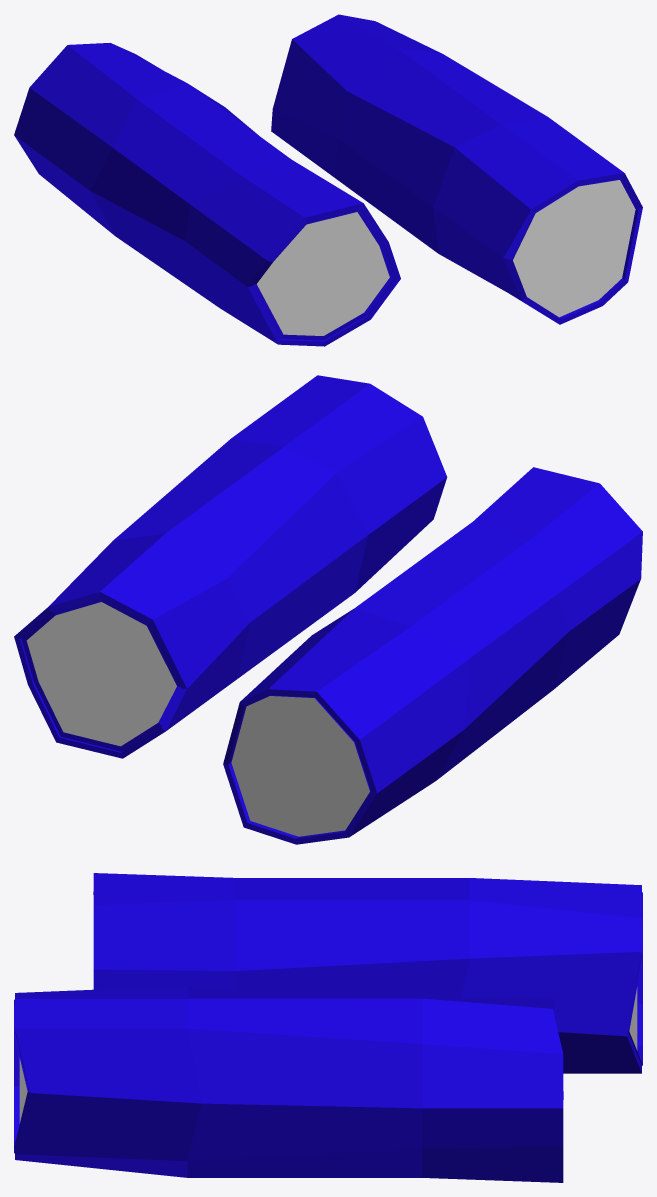
Rendered from Holz.fbx.
The picture shows the model from 3 angles, top to bottom: view 1: azimuth 30°, elevation 25°; view 2: azimuth 150°, elevation 25°; view 3: azimuth 270°, elevation 25°; orthographic projection. The views are drawn at different scales.
Visible parts, largest first — view 1: Holzstamm2, Holzstamm1, Holzstamm1.001, Holzstamm2.002; view 2: Holzstamm1, Holzstamm2, Holzstamm1.001, Holzstamm2.002; view 3: Holzstamm1, Holzstamm2.
Boxes of the visible parts, <box> form: Holzstamm2: <box>14,43,400,346</box>; Holzstamm1: <box>271,14,642,324</box>; Holzstamm1.001: <box>513,180,635,317</box>; Holzstamm2.002: <box>257,212,389,335</box>; Holzstamm1: <box>14,375,447,758</box>; Holzstamm2: <box>223,467,642,844</box>; Holzstamm1.001: <box>26,602,176,746</box>; Holzstamm2.002: <box>231,696,369,836</box>; Holzstamm1: <box>14,986,563,1182</box>; Holzstamm2: <box>93,873,642,1073</box>.
Bounding box in the file's own units: 72.44 × 29.51 × 98.5.
